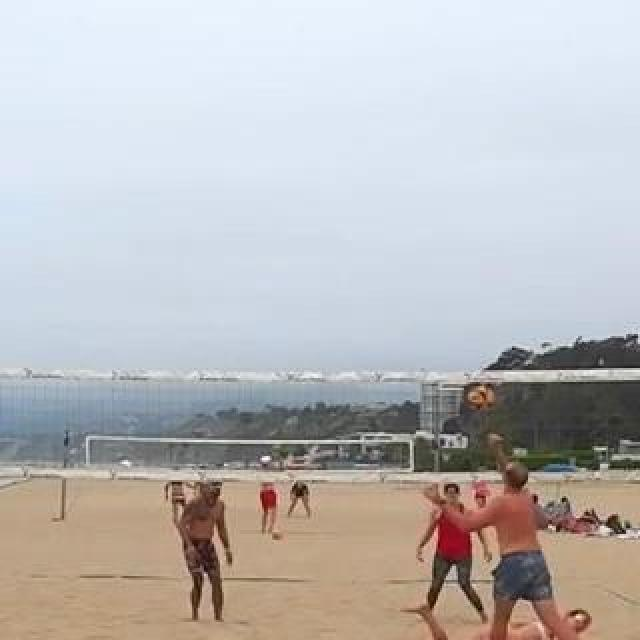volleyball: (468, 386, 496, 414), (271, 529, 283, 543)
